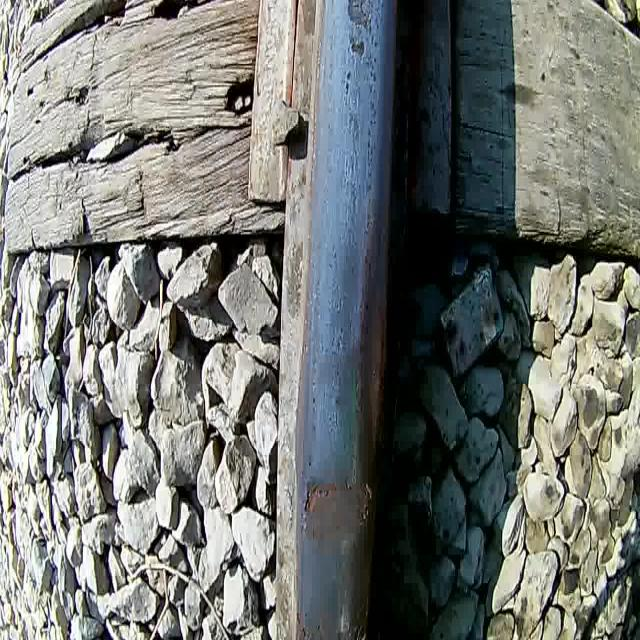Spallings: (302, 480, 337, 519), (357, 475, 374, 531)
Squats: (298, 470, 375, 557), (343, 0, 377, 60)
